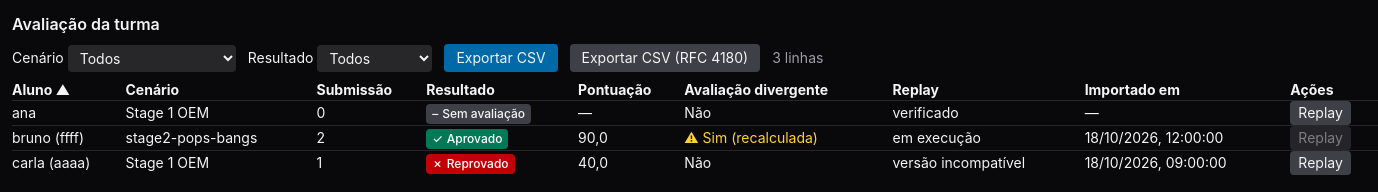
it: ClassGradeTable — ordenação e filtros › filtra por aprovados e reprovados e mostra os textos de replay e importação
Expected: the text "3 linhas" is shown, [772,48,823,68]
Expected: the text "em execução" is shown, [892,126,1085,150]
Select "Aprovados" in the dropdown labelled "Resultado" at (375, 58), box [317,44,432,72]
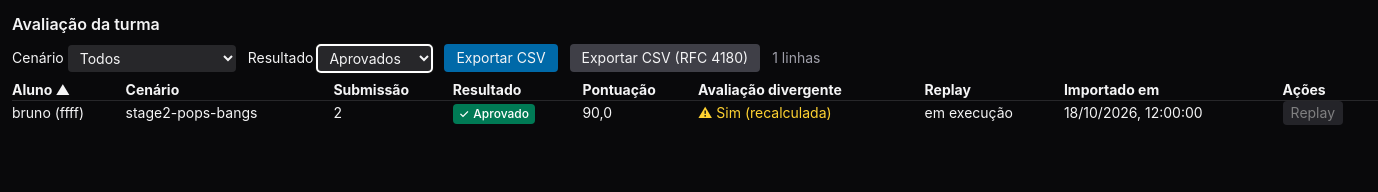
Result: the text "1 linhas" is shown at [772,48,820,68]
Select "Reprovados" in the dropdown labelled "Resultado" at (375, 58), box [317,44,432,72]
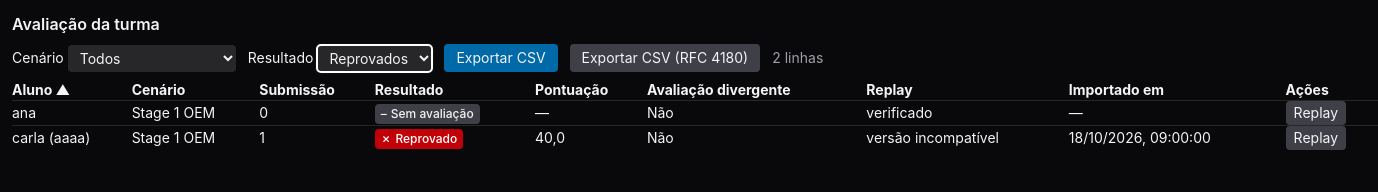
Result: the text "2 linhas" is shown at [772,48,823,68]
Select "Todos" in the dropdown labelled "Resultado" at (375, 58), box [317,44,432,72]
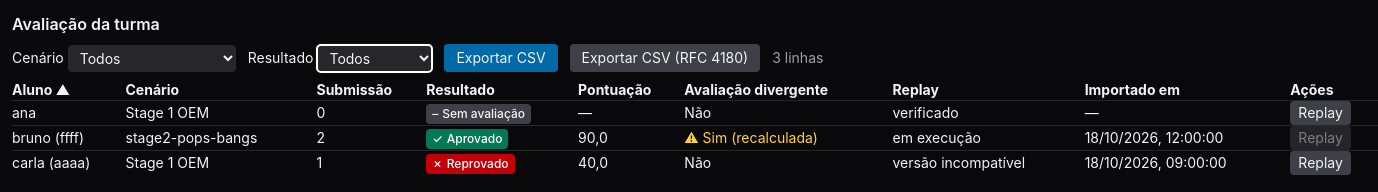
Result: the text "3 linhas" is shown at [772,48,823,68]
